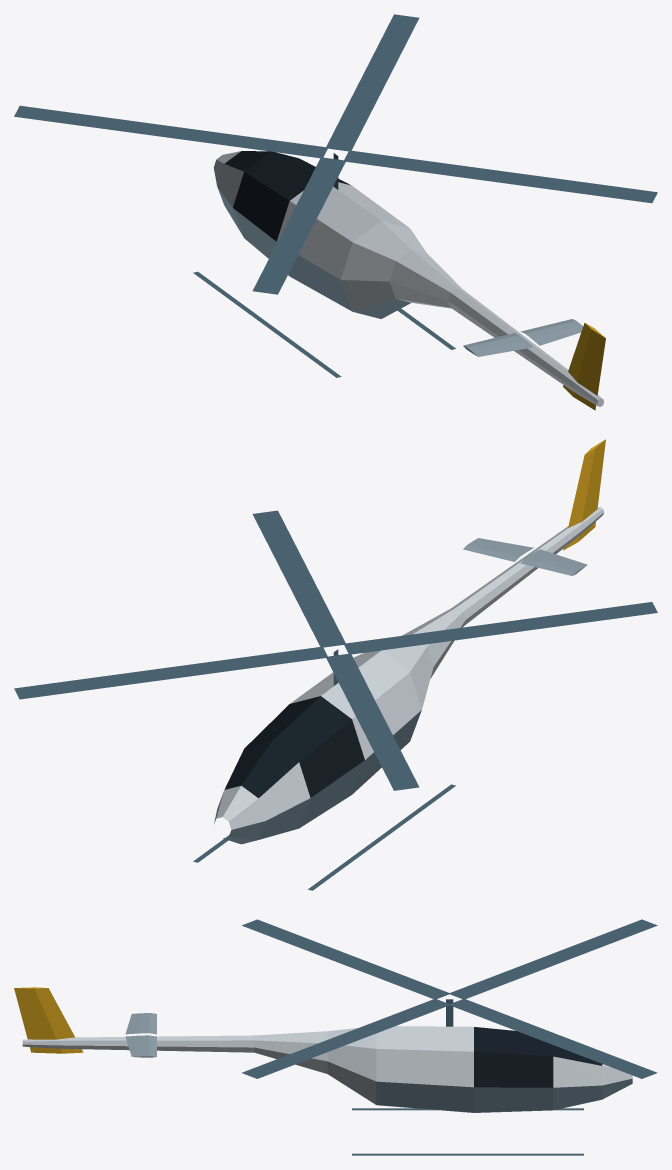
The picture shows the model from 3 angles, top to bottom: view 1: azimuth 30°, elevation 25°; view 2: azimuth 150°, elevation 25°; view 3: azimuth 270°, elevation 25°; orthographic projection. The views are drawn at different scales.
Visible parts, largest first — view 1: lod0; view 2: lod0; view 3: lod0.
Boxes of the visible parts, <box> form: lod0: <box>14,14,657,410</box>; lod0: <box>14,439,657,890</box>; lod0: <box>14,919,657,1155</box>.
Size of what is drawn, in the model's own units: 0.5866 by 0.2467 by 1.
